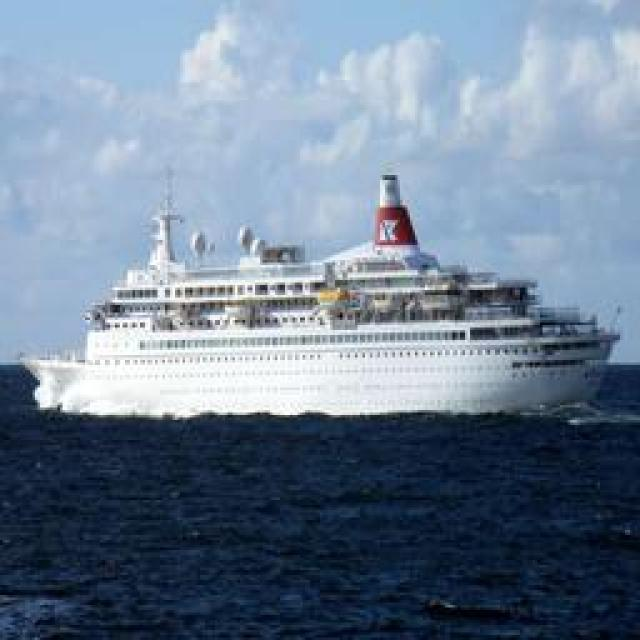ship2: (22, 174, 621, 422)
